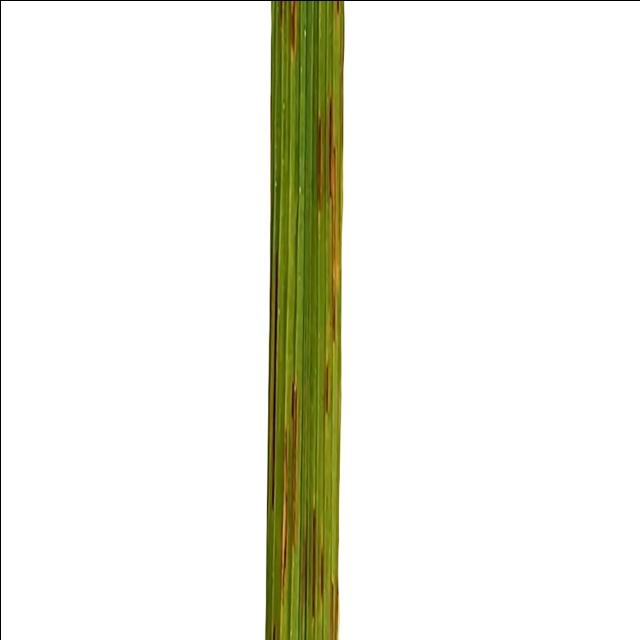Narrow brown: (147, 0, 414, 640)
